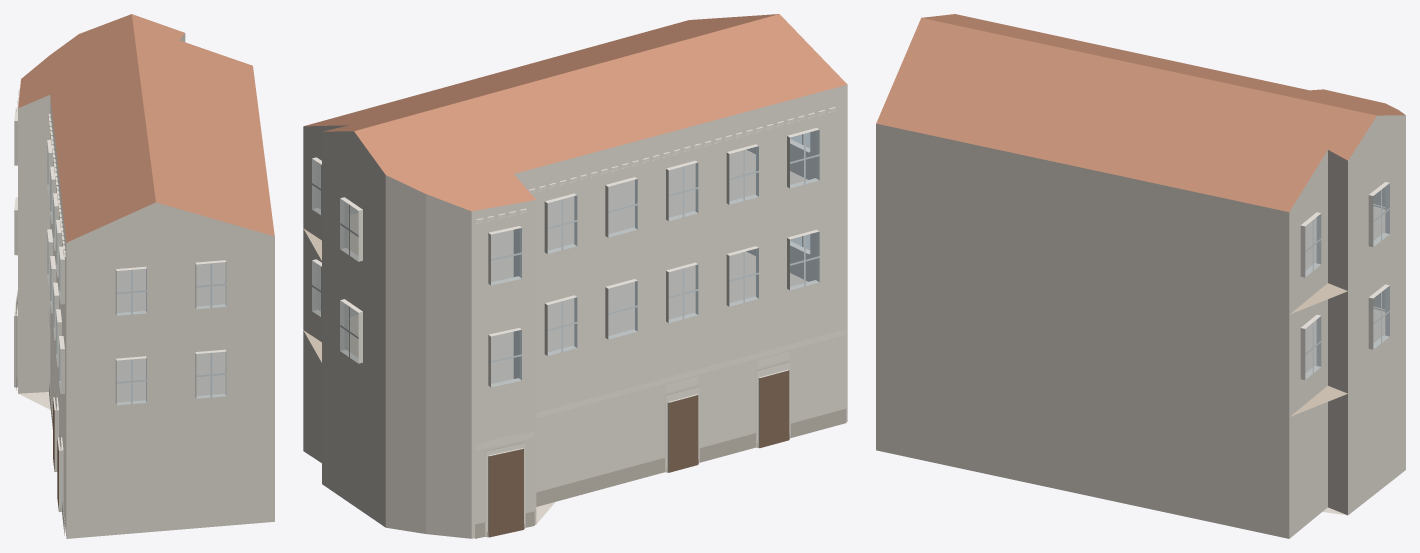
Rendered from W-34-36-FIRIN.glb.
3 views of the same model, side by side, from view 1: azimuth 30°, elevation 25°; view 2: azimuth 150°, elevation 25°; view 3: azimuth 270°, elevation 25° (orthographic). The views are drawn at different scales.
Parts seen in each view (by area): view 1: W-34-36-FIRIN.bakery_mass; view 2: W-34-36-FIRIN.bakery_mass; view 3: W-34-36-FIRIN.bakery_mass.
Part boxes in pixels (<box>): W-34-36-FIRIN.bakery_mass: <box>14,14,274,538</box>; W-34-36-FIRIN.bakery_mass: <box>303,14,847,538</box>; W-34-36-FIRIN.bakery_mass: <box>876,14,1405,538</box>.
Size of what is drawn, in the model's own units: 12.45 by 11.77 by 14.99.
